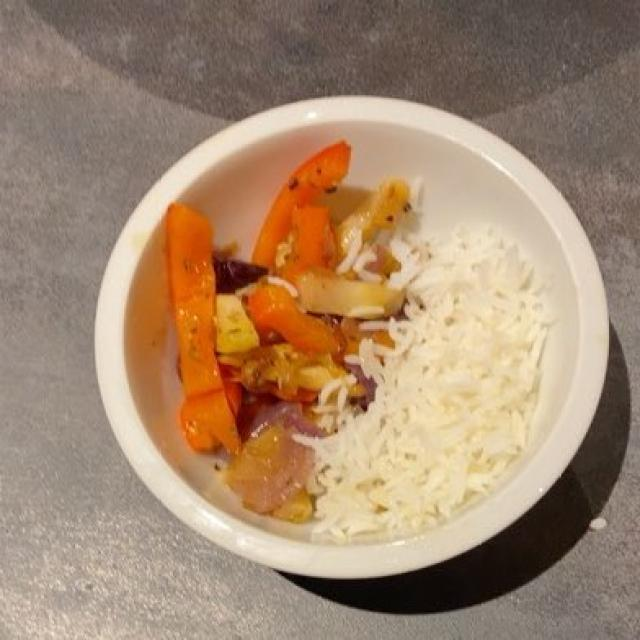mixed-vegetables: (158, 145, 404, 516)
rice: (313, 232, 538, 548)
